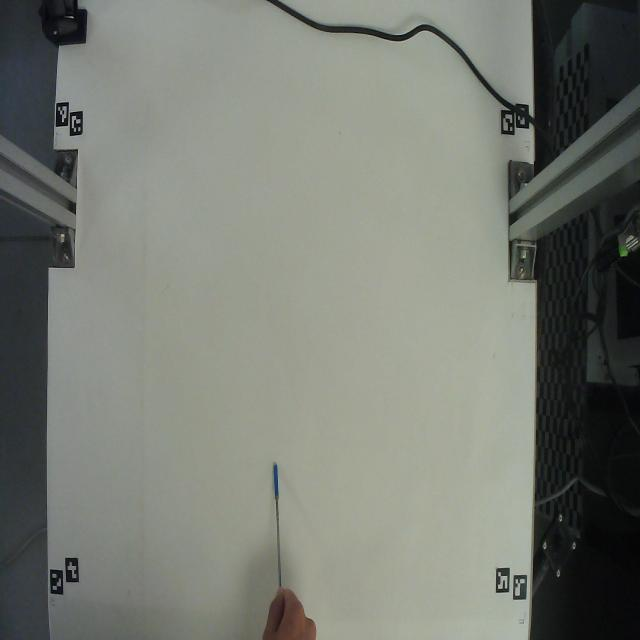Pres: (266, 416, 292, 602)
